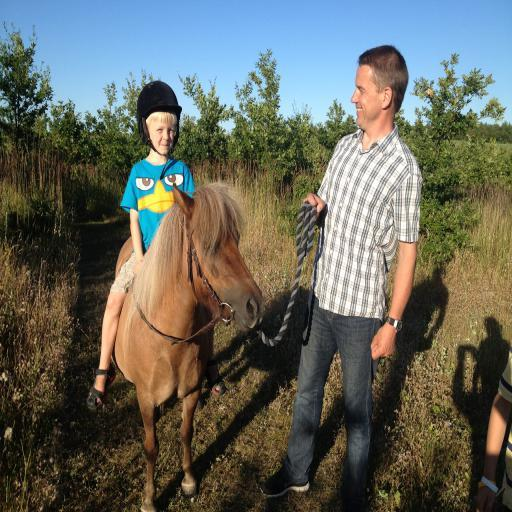Horse: (112, 184, 264, 512)
